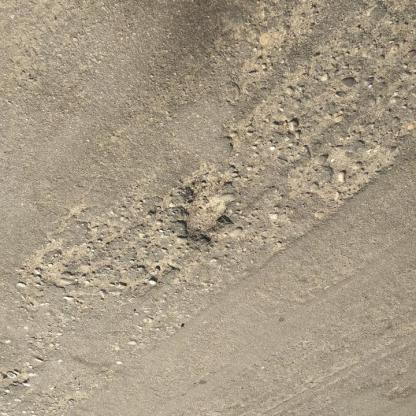pothole: (181, 176, 237, 245), (141, 257, 179, 290)
